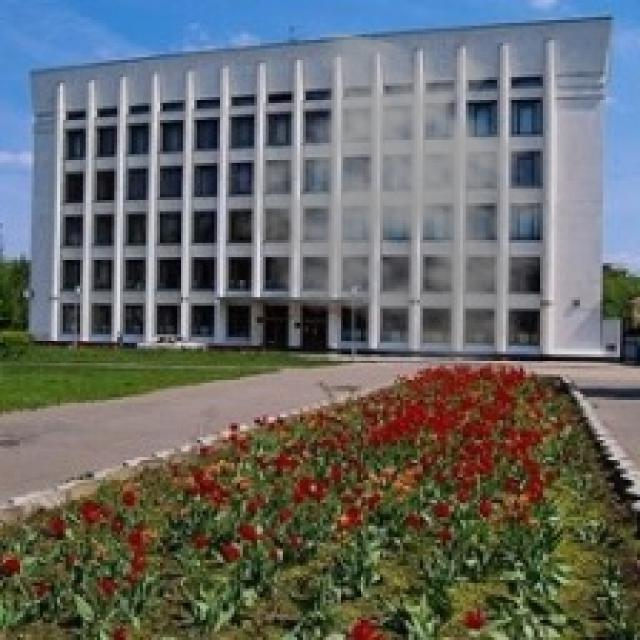smoke: (231, 29, 583, 377)
